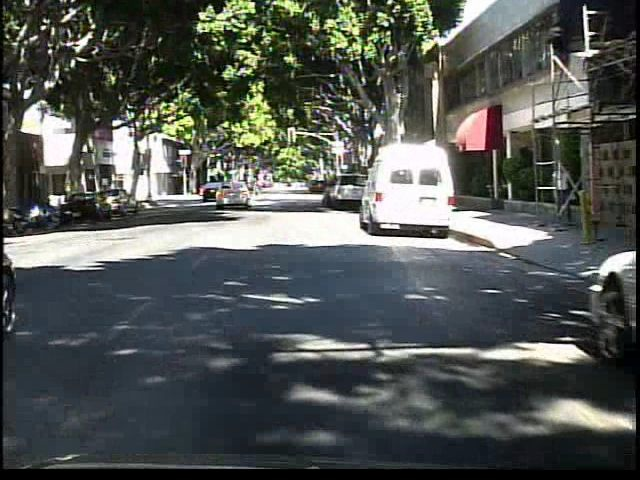person: (548, 159, 574, 233), (249, 175, 266, 207)
